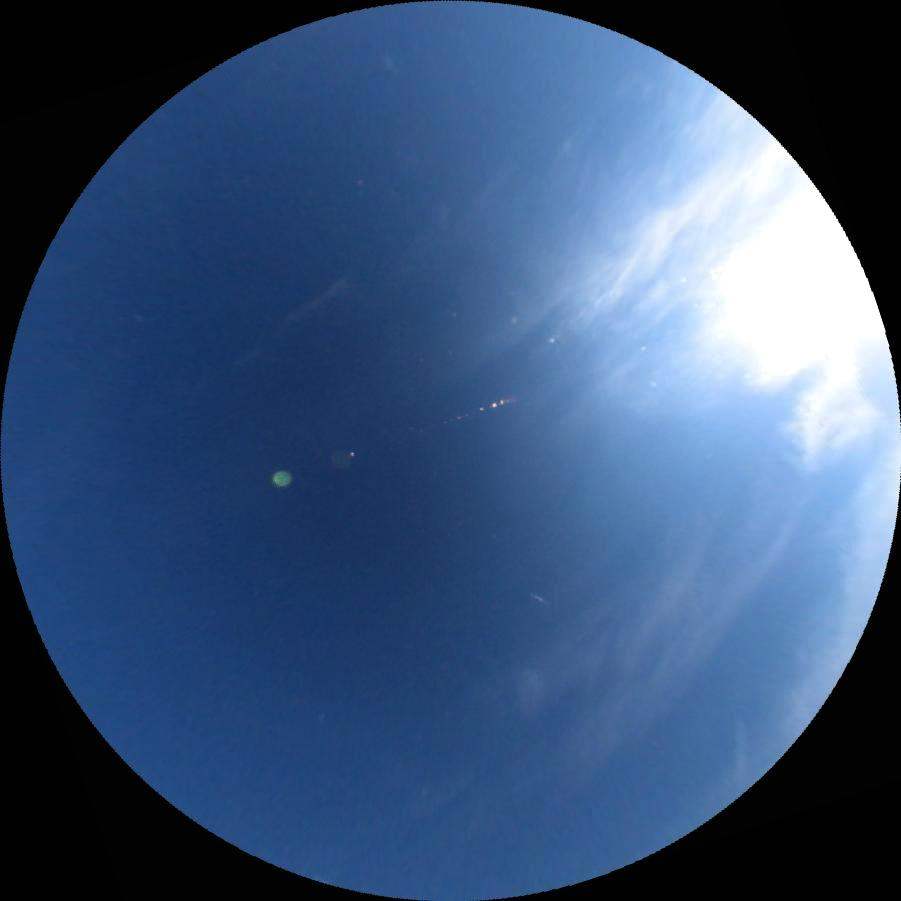sun: (712, 201, 890, 375)
unknow: (529, 592, 546, 603)
